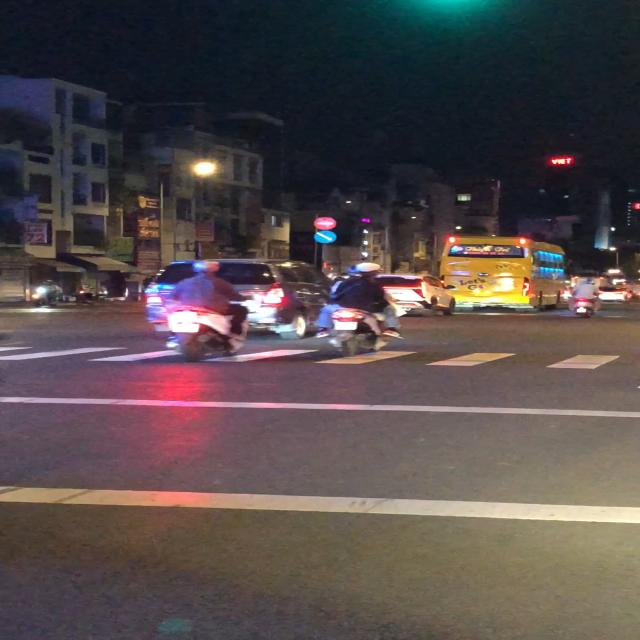Bien bao cam di nguoc chieu: (312, 216, 337, 230)
Bien bao huong phai di vong chuong ngai vat: (314, 230, 339, 244)
